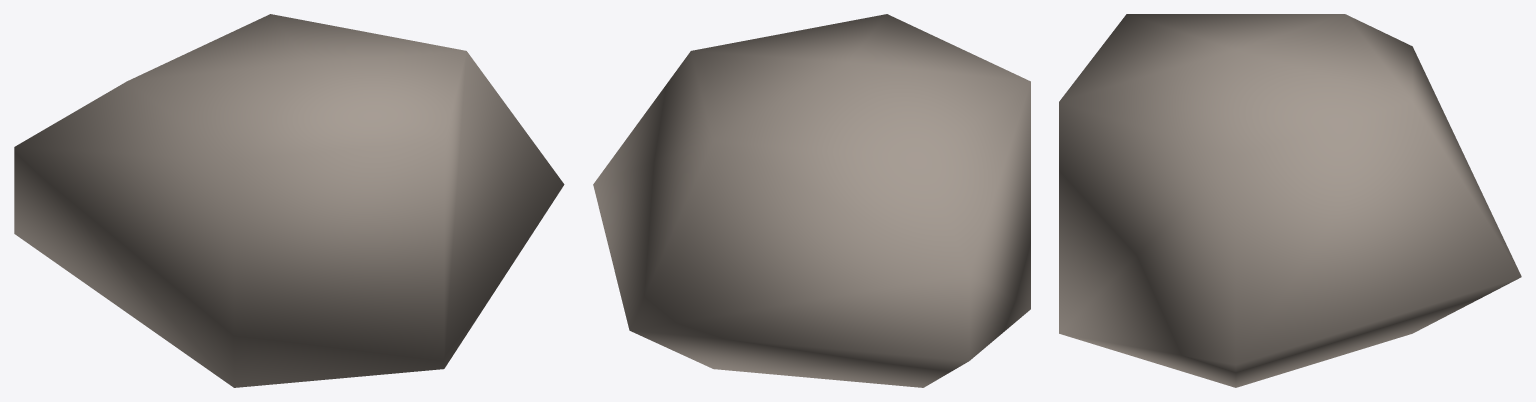
File: SM_CoastPebble_Var2.fbx
The picture shows the model from 3 angles, left to right: view 1: azimuth 30°, elevation 25°; view 2: azimuth 150°, elevation 25°; view 3: azimuth 270°, elevation 25°; orthographic projection.
Visible parts, largest first — view 1: Pebble2; view 2: Pebble2; view 3: Pebble2.
Part boxes in pixels (x1,y1,x2,y2): Pebble2: (14,14,564,387); Pebble2: (593,14,1030,387); Pebble2: (1059,14,1521,387).
Size of the model in its own units: 68.82 by 36.18 by 58.54.
